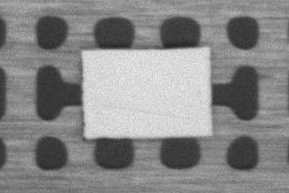DIE_CRACK: (145, 69, 288, 79)
